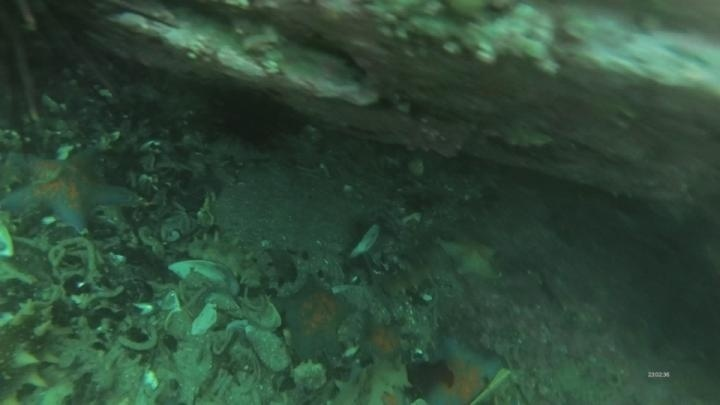echinus: (207, 83, 292, 152)
holothurian: (1, 295, 64, 405), (183, 228, 267, 296), (326, 357, 417, 405), (377, 253, 442, 301)
starfish: (1, 144, 140, 237), (272, 270, 356, 364), (423, 333, 507, 405), (436, 231, 502, 284), (356, 315, 411, 367)
